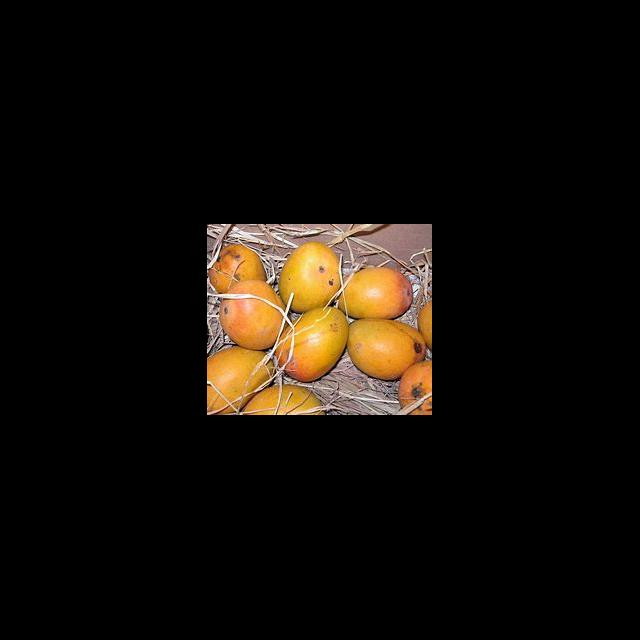mango: (276, 306, 348, 384), (218, 282, 292, 352), (346, 320, 428, 382), (208, 346, 276, 416), (278, 242, 344, 314), (344, 268, 414, 320)
